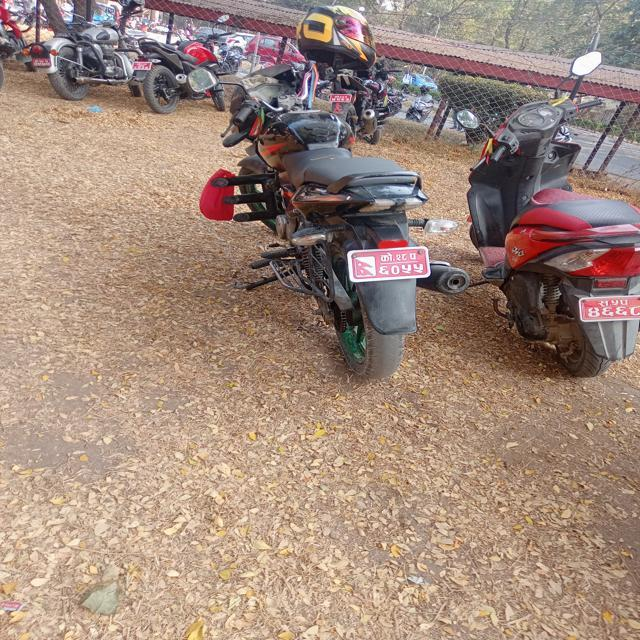license_plate: (205, 59, 478, 388)
